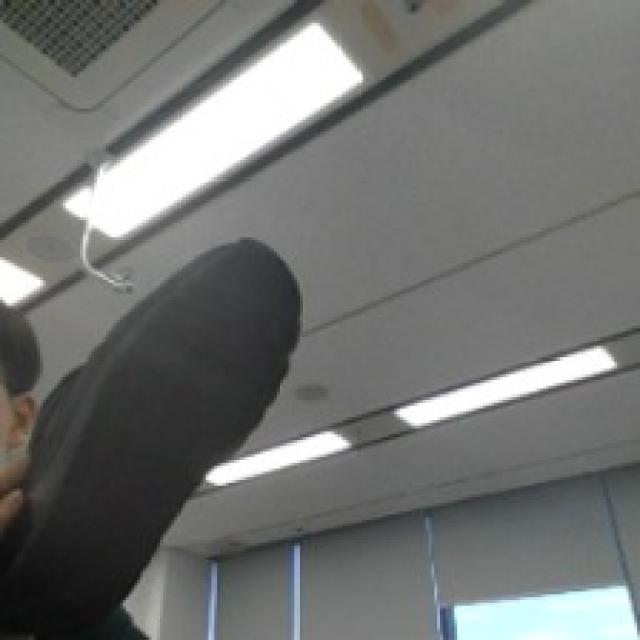shoes: (0, 187, 341, 637)
